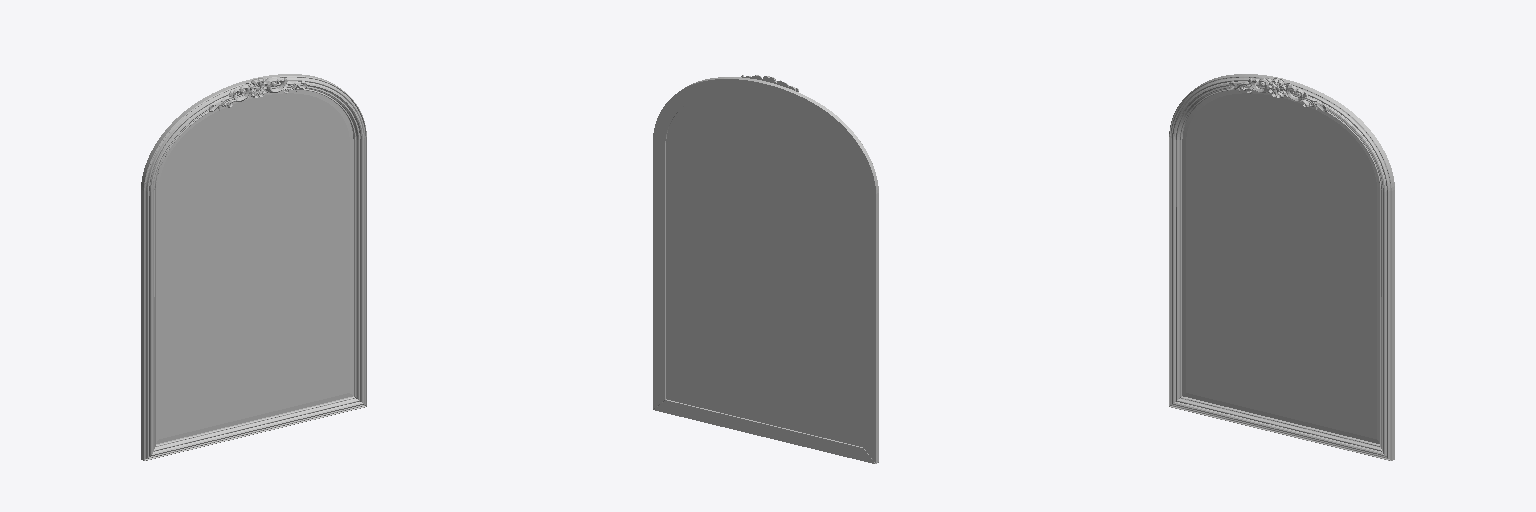
Rendered from ornate.obj.
The picture shows the model from 3 angles: view 1: azimuth 30°, elevation 25°; view 2: azimuth 150°, elevation 25°; view 3: azimuth 330°, elevation 25°; orthographic projection.
Parts seen in each view (by area): view 1: ornate_mirror_01_Plane.001; view 2: ornate_mirror_01_Plane.001; view 3: ornate_mirror_01_Plane.001.
Boxes of the visible parts, x1,y1,x2,y2 form: ornate_mirror_01_Plane.001: [141, 74, 366, 460]; ornate_mirror_01_Plane.001: [653, 75, 878, 463]; ornate_mirror_01_Plane.001: [1169, 74, 1394, 460].
Bounding box in the file's own units: 0.4865 × 0.7442 × 0.026.